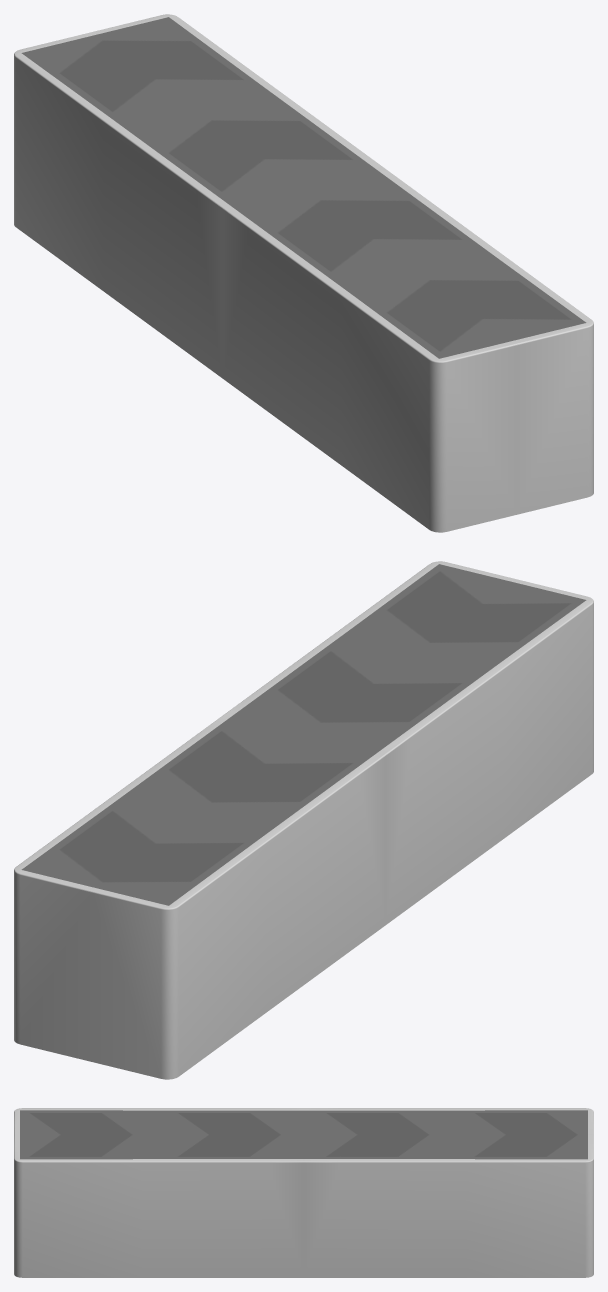
Rendered from Platform_Straight.fbx.
The picture shows the model from 3 angles, top to bottom: view 1: azimuth 30°, elevation 25°; view 2: azimuth 150°, elevation 25°; view 3: azimuth 270°, elevation 25°; orthographic projection. The views are drawn at different scales.
Parts seen in each view (by area): view 1: Platform_Straight; view 2: Platform_Straight; view 3: Platform_Straight.
Boxes of the visible parts, x1=… form: Platform_Straight: x1=14, y1=14, x2=593, y2=532; Platform_Straight: x1=14, y1=561, x2=593, y2=1079; Platform_Straight: x1=14, y1=1108, x2=593, y2=1277.
Bounding box in the file's own units: 671 × 671 × 3040.
2 materials, 1 textured.
